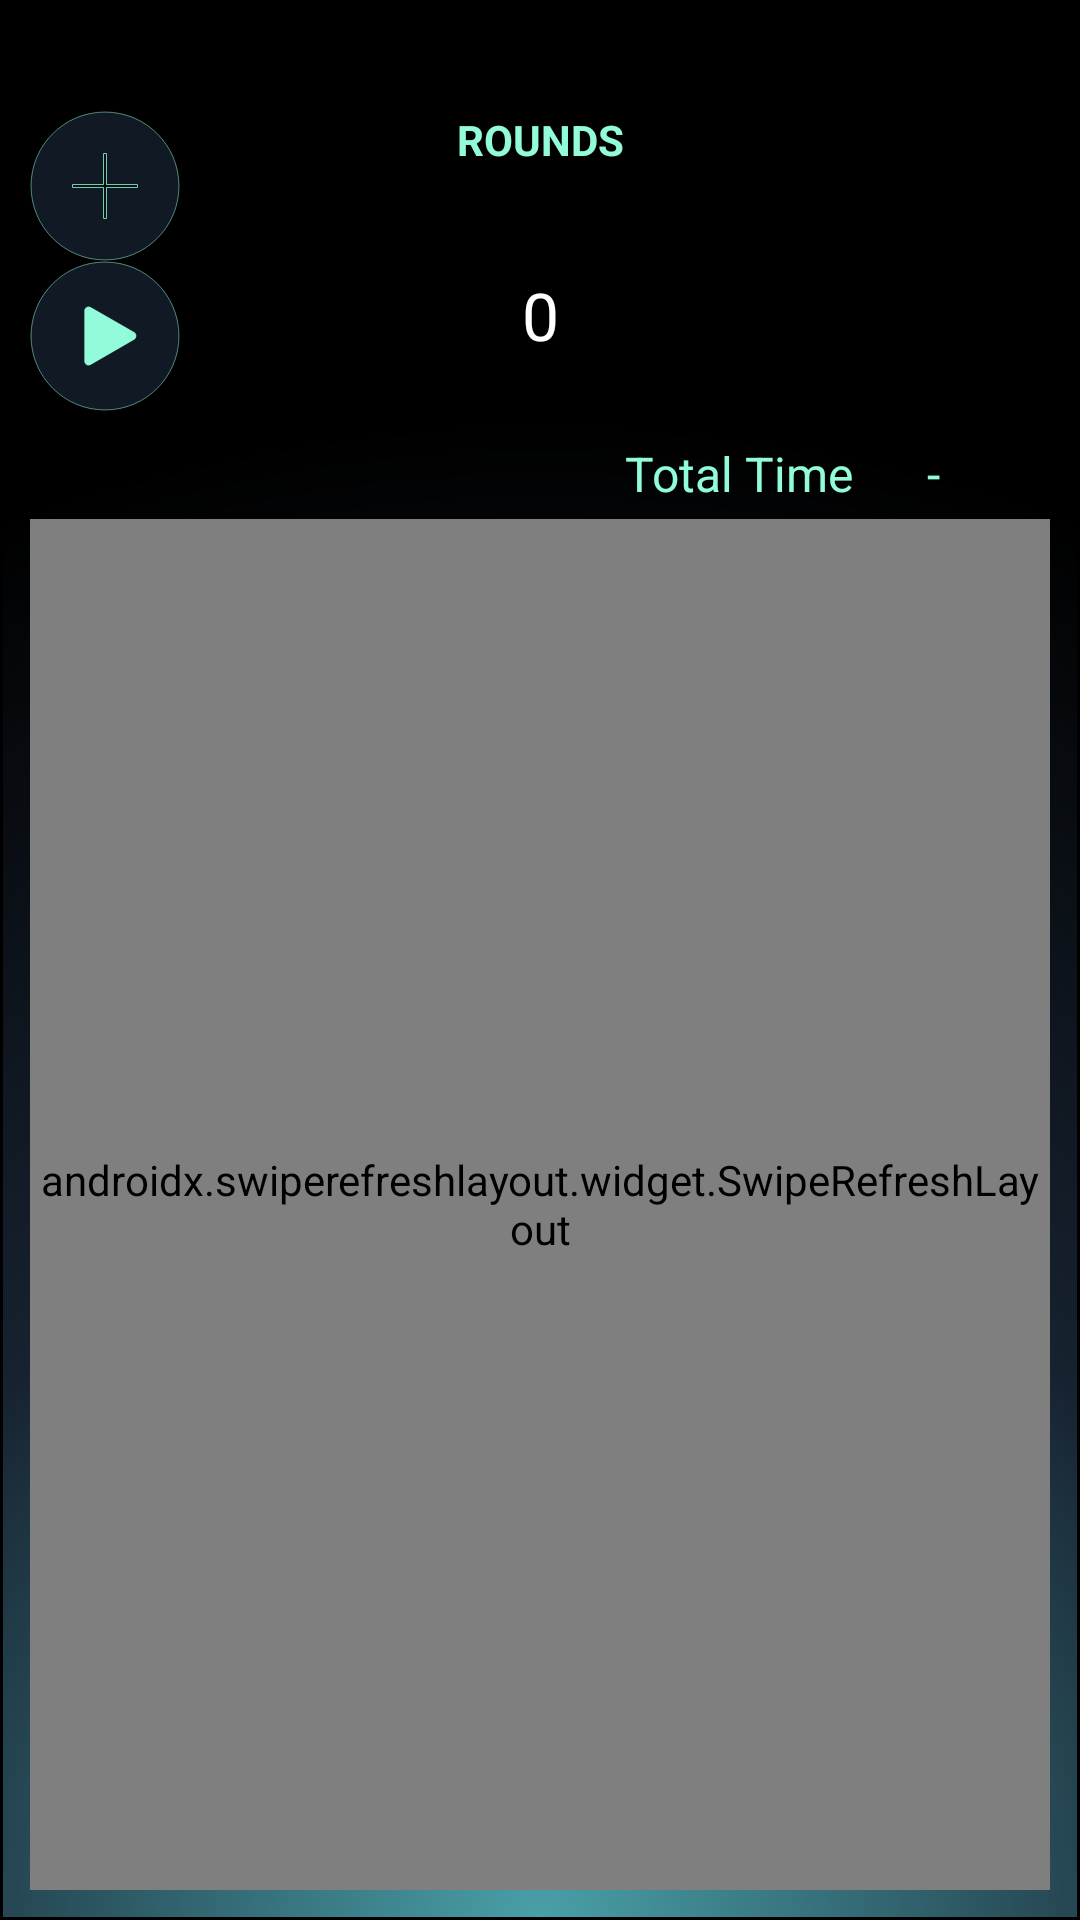

Locate icon controls on the screen. Image size 1080*1920, boxes as (left=x1, top=y1, right=x2, bottom=y2).
Add Layout: (left=30, top=111, right=180, bottom=261)
Start or Pause Time: (left=30, top=261, right=180, bottom=411)
